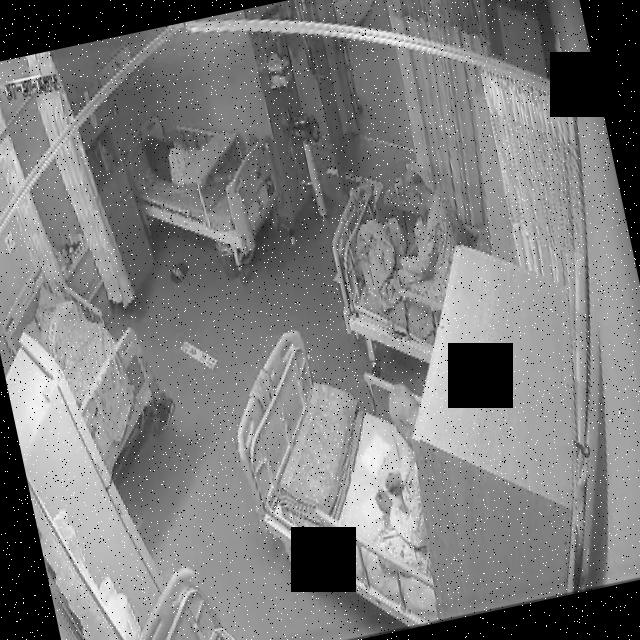bed: (216, 308, 472, 640), (0, 248, 173, 487), (321, 170, 488, 377), (116, 91, 288, 275)
lie: (138, 116, 234, 193)
patient: (350, 380, 456, 590), (375, 160, 470, 322), (139, 122, 206, 194)
sit: (346, 378, 458, 590), (372, 158, 470, 321)
